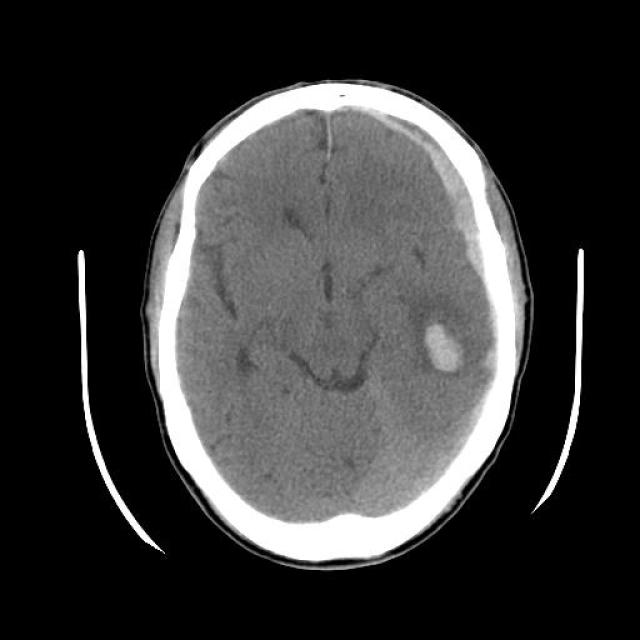Intraparenchymal: (390, 305, 458, 386)
Subdural: (352, 96, 548, 300), (480, 299, 511, 380)
